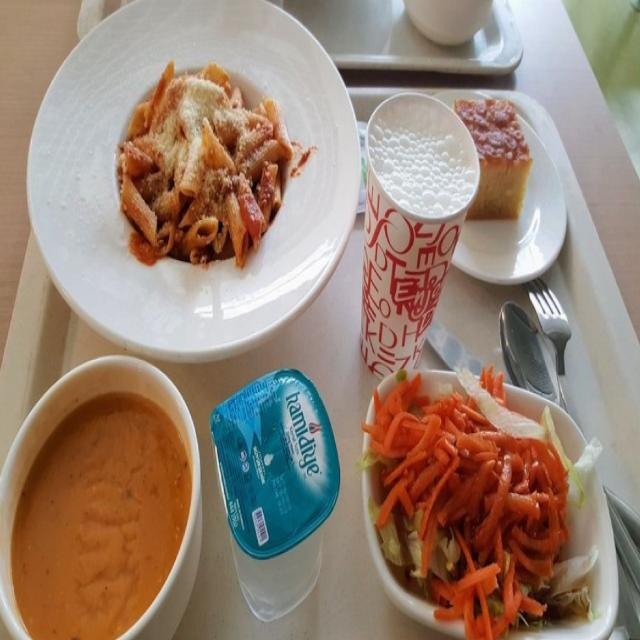ana_yemek: (28, 1, 355, 365)
corba: (2, 355, 202, 636)
yan_yemek: (435, 90, 566, 284)
